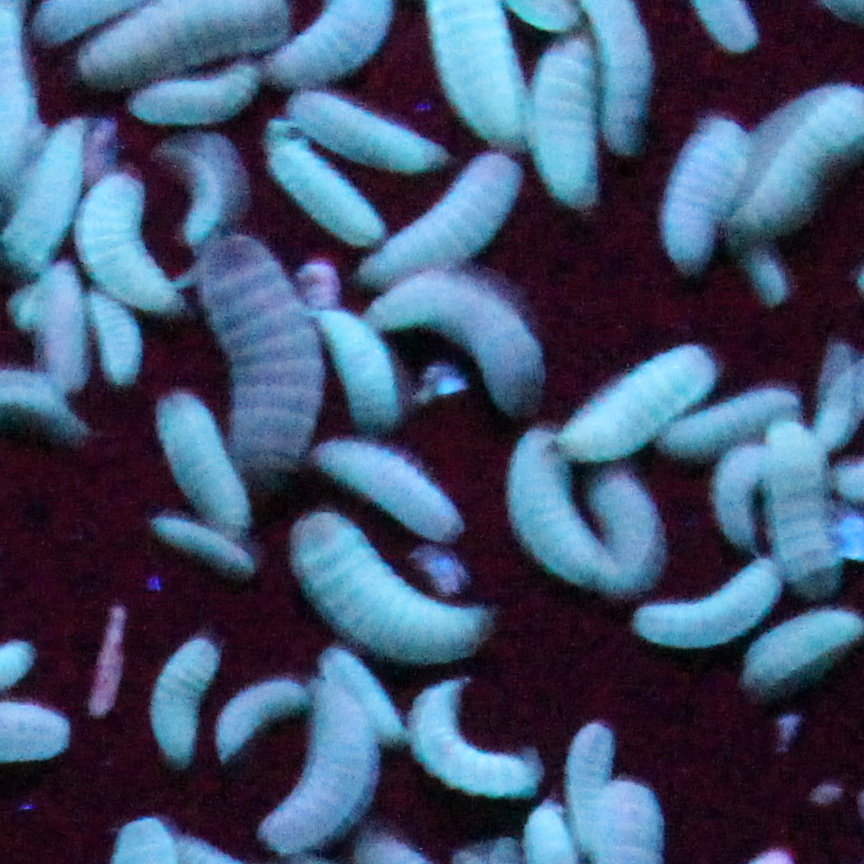larve: (192, 226, 319, 470), (294, 515, 494, 658), (369, 267, 555, 413), (364, 140, 523, 288), (560, 345, 719, 465), (517, 433, 626, 601), (146, 383, 257, 545), (78, 170, 196, 317), (314, 431, 462, 538), (414, 674, 542, 797), (264, 131, 392, 251), (769, 417, 844, 608), (532, 31, 607, 208), (664, 110, 746, 270), (3, 126, 87, 270), (292, 90, 446, 167), (312, 304, 412, 420), (639, 567, 776, 647), (748, 604, 857, 699), (148, 629, 219, 763), (214, 676, 312, 760), (664, 395, 794, 458), (587, 472, 662, 576), (151, 517, 264, 583), (135, 70, 267, 124), (330, 647, 403, 738), (567, 715, 621, 835), (85, 295, 146, 390), (712, 442, 764, 549)
